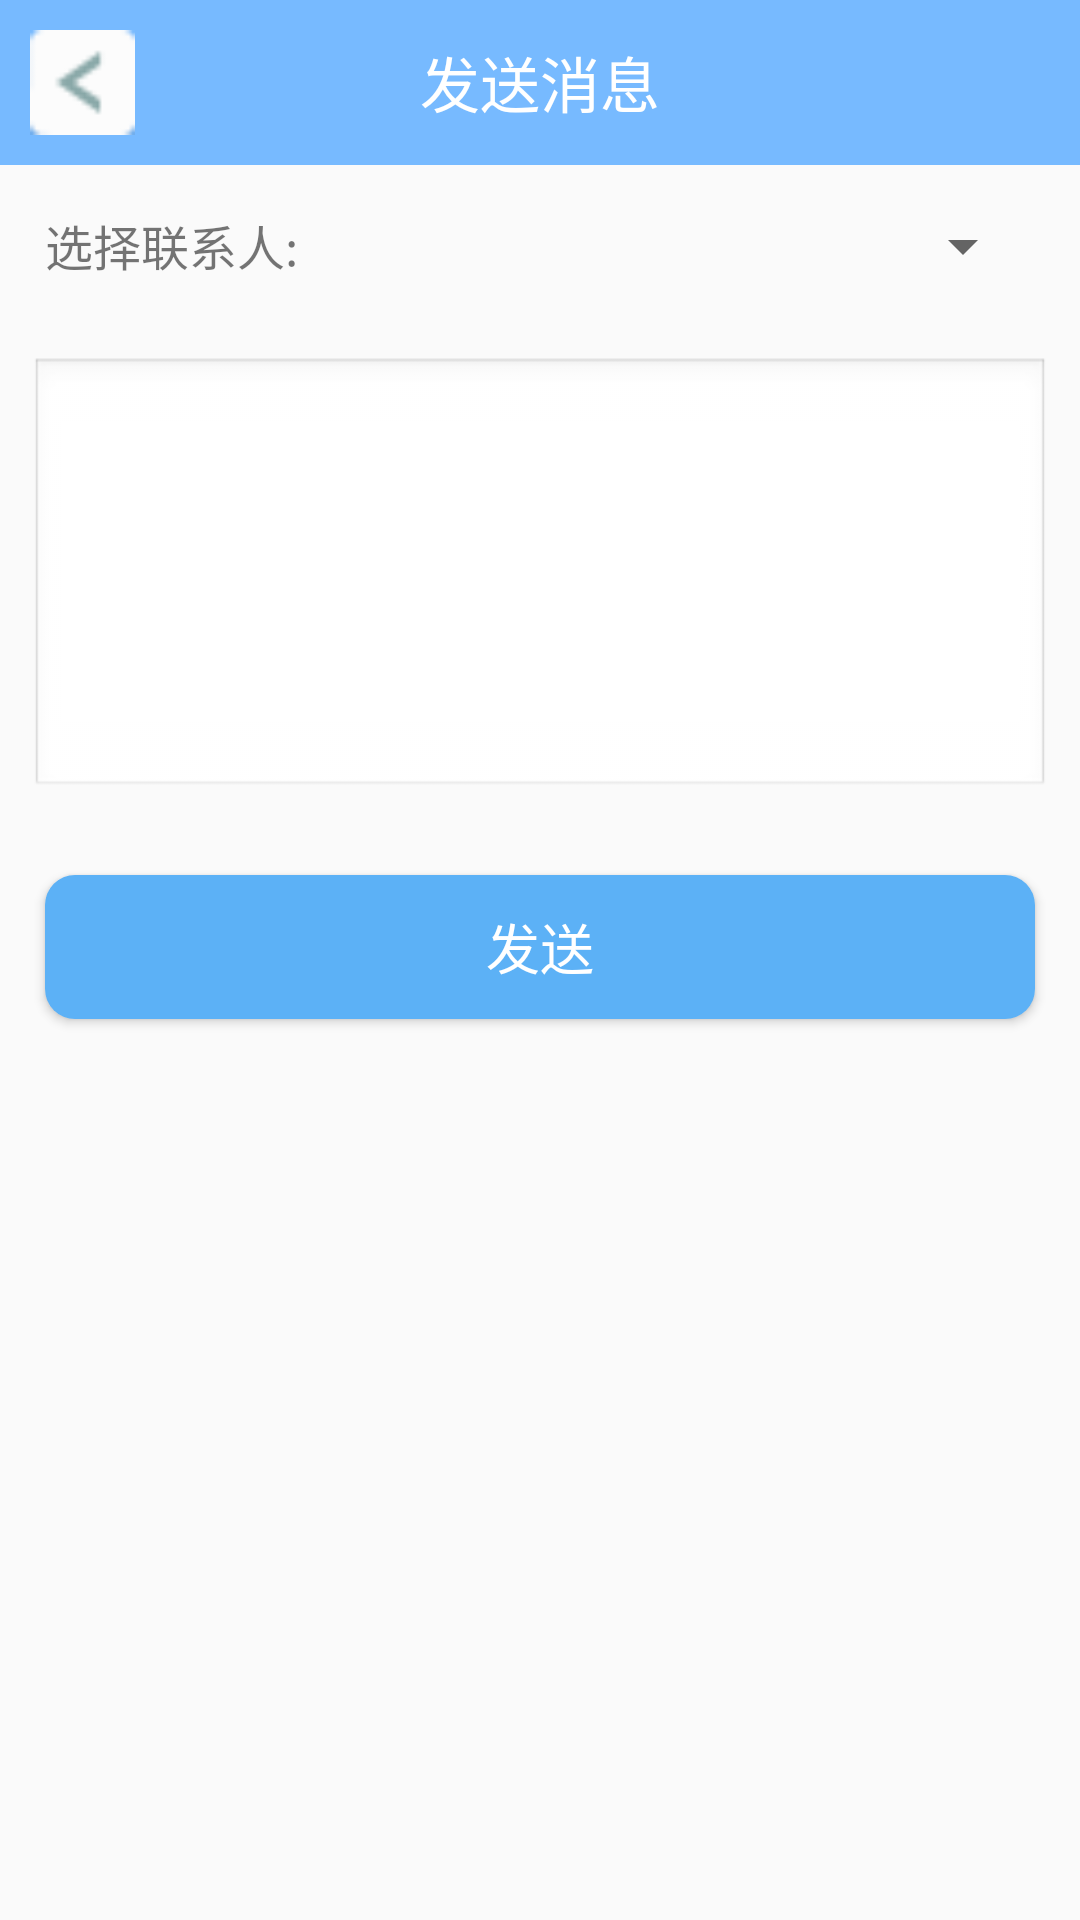

Icons on this 1080w x 1920h Android screen, each with the point to tap as (x=x, y=y):
left: (x=82, y=82)
